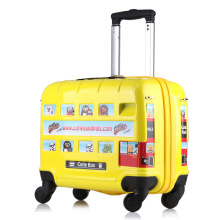suitcase: (32, 5, 193, 214)
